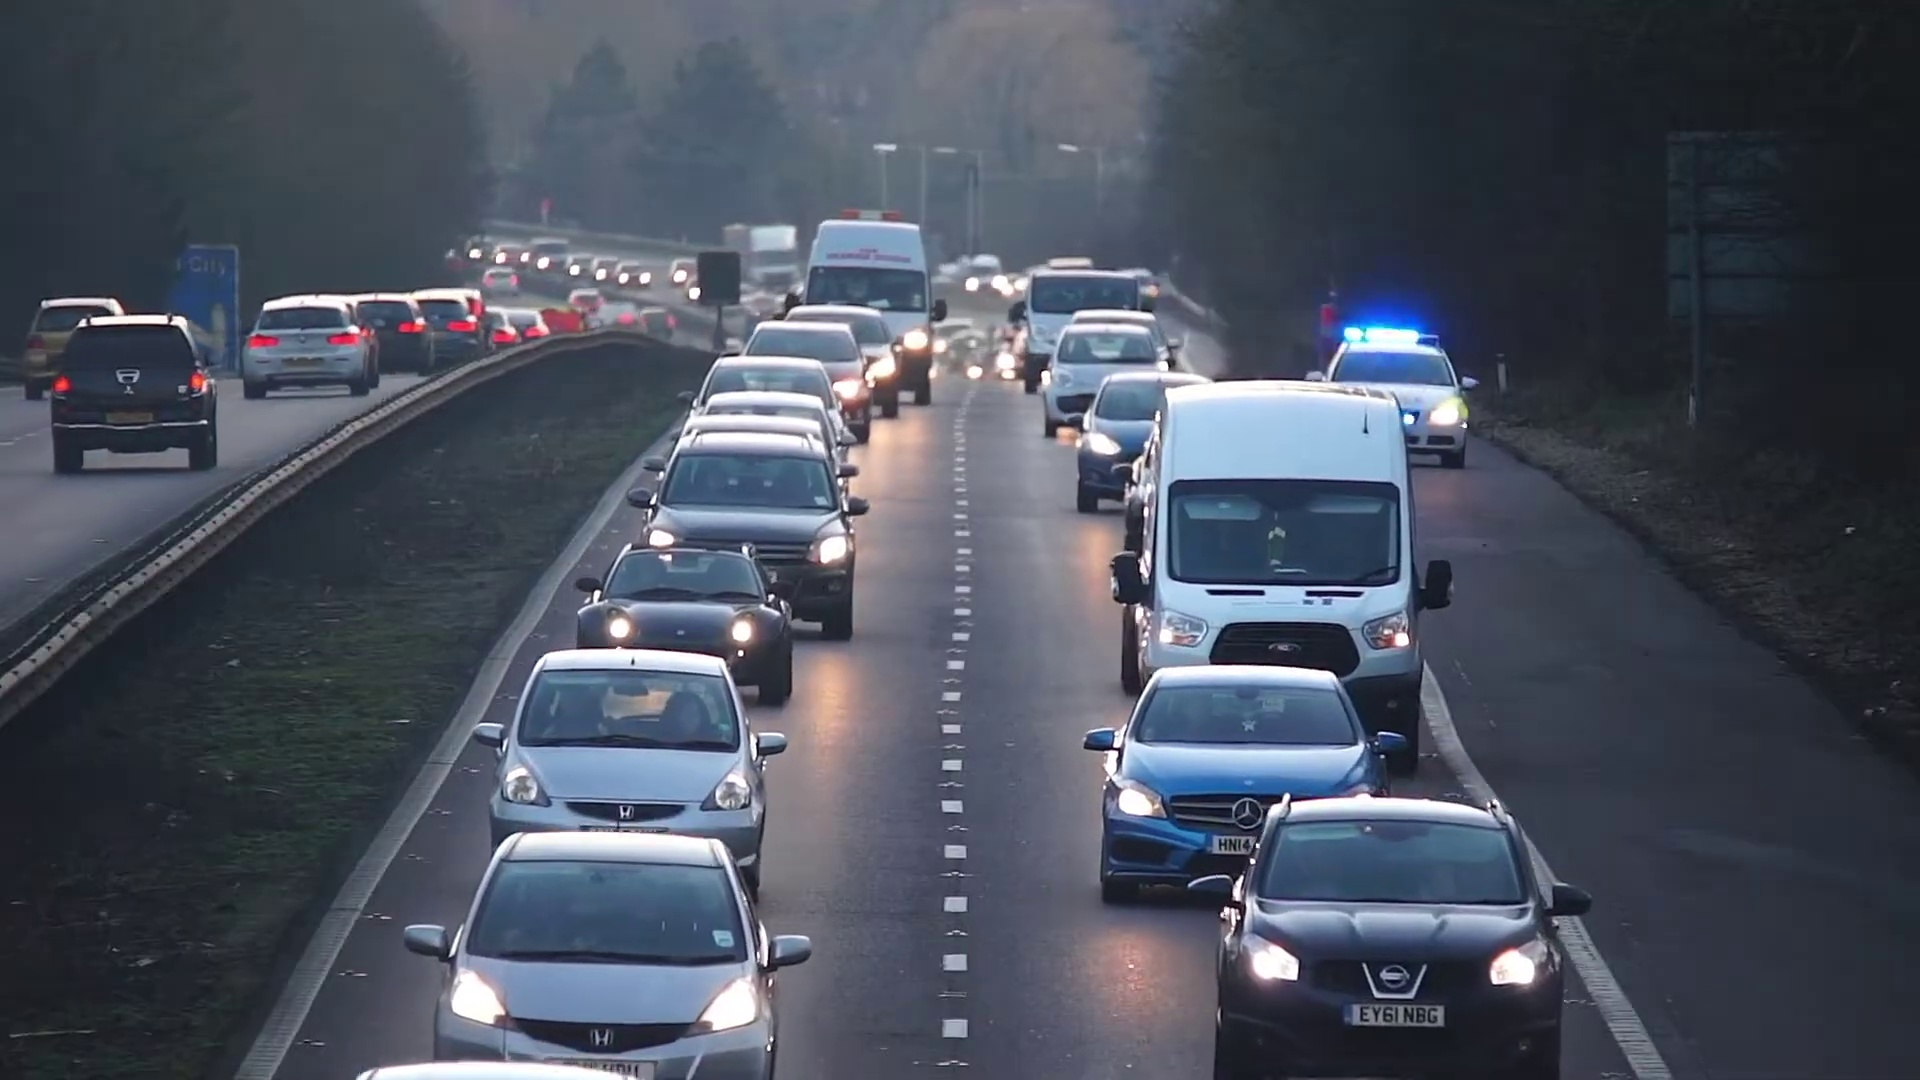license_plate: (1343, 999, 1450, 1031), (1208, 834, 1251, 853)
